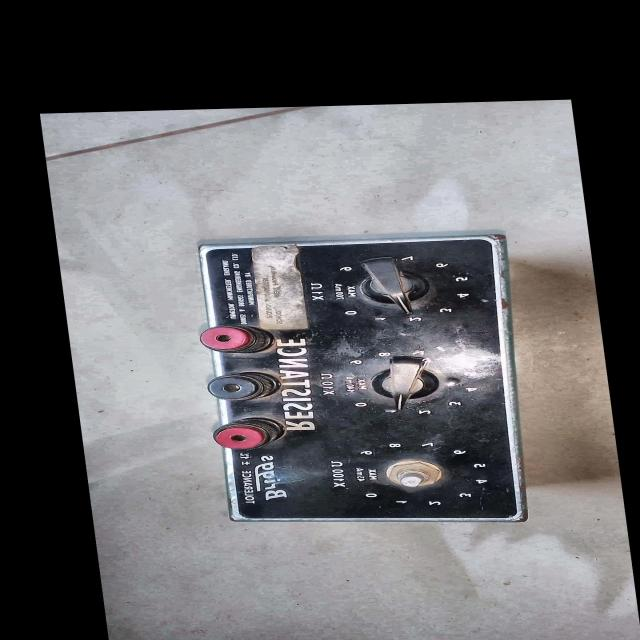Decade Resistance Box: (147, 228, 565, 540)
